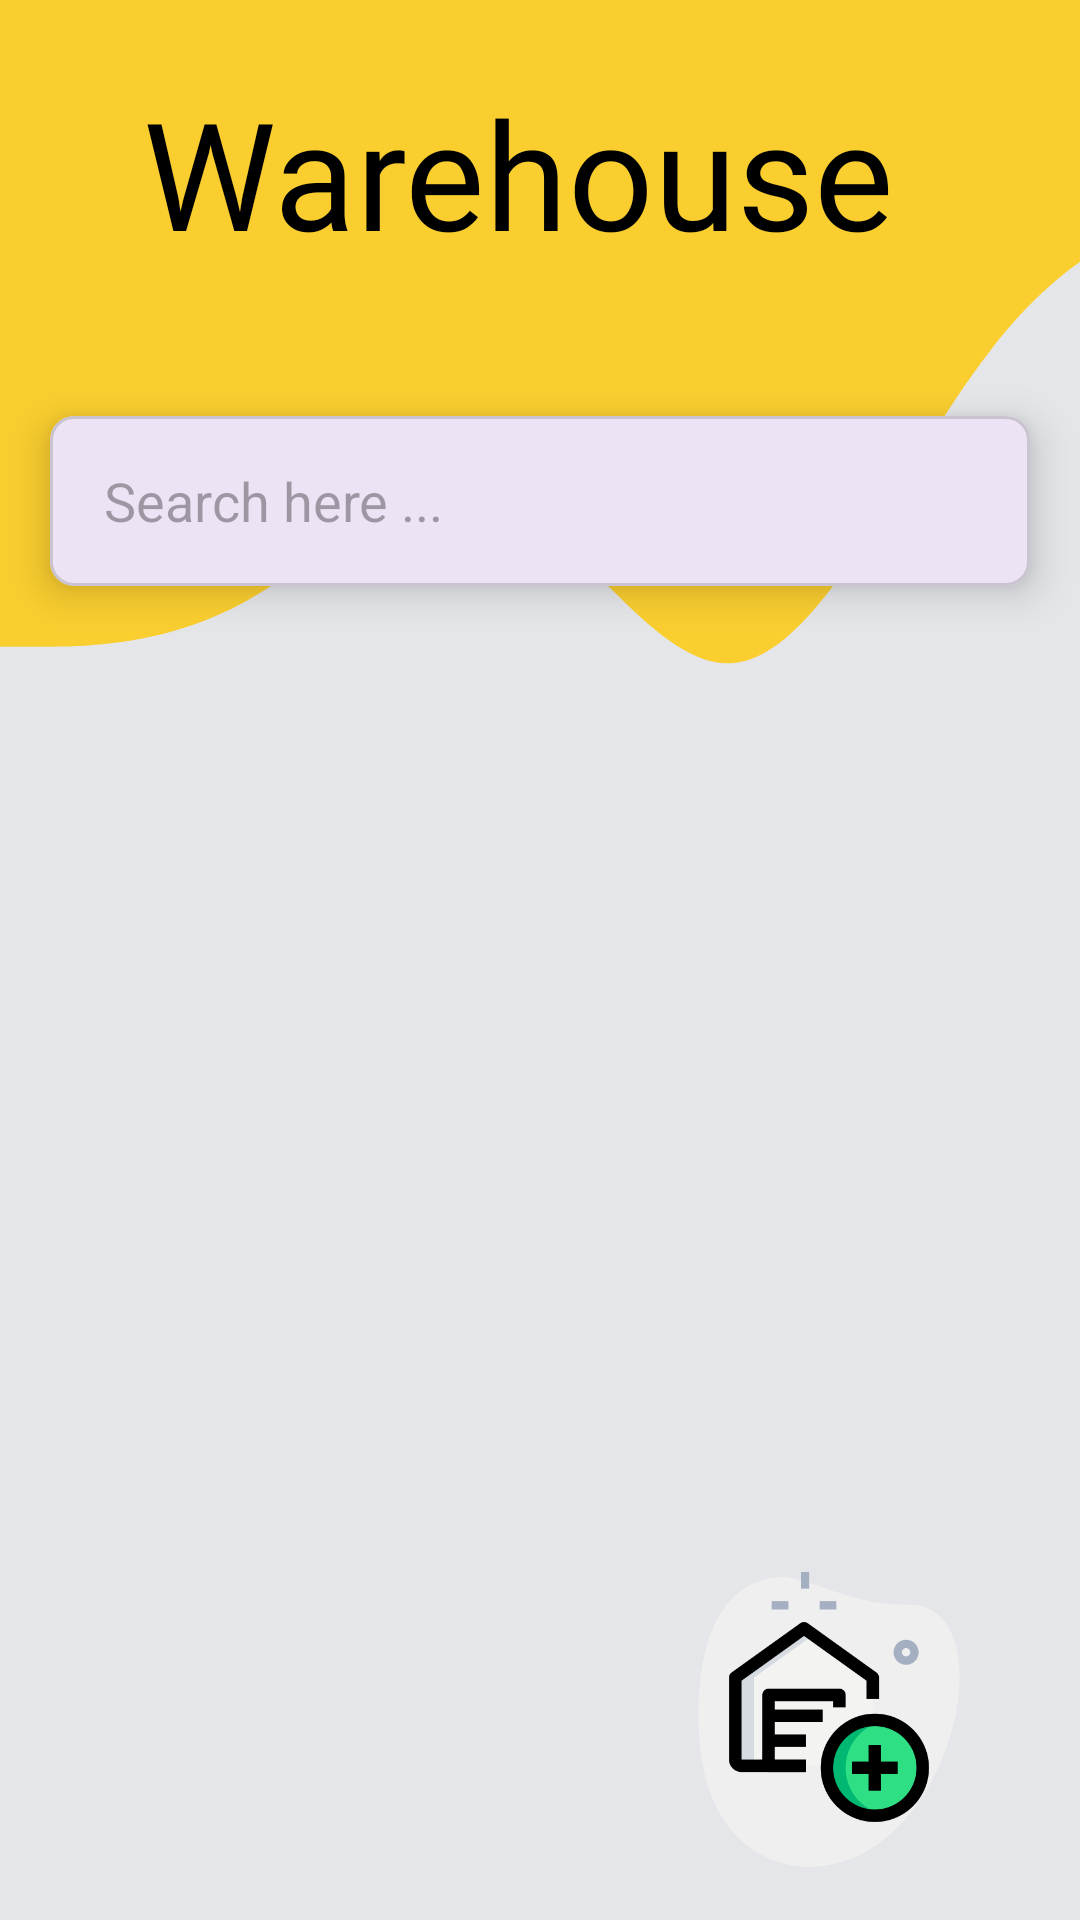

Where to tap for icons on this 1080 × 1920 app screen, as [x,y]:
add warehouse: [829,1719]
